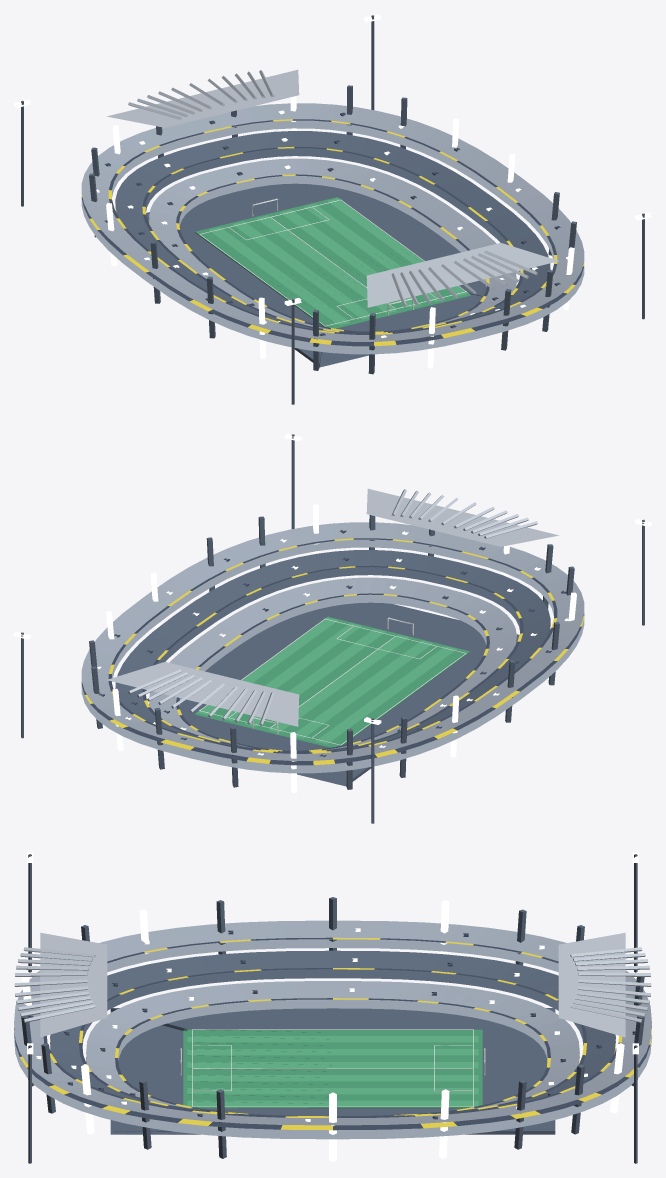
File: king-abdullah-sports-city.glb
3 renders of one model, top to bottom at view 1: azimuth 30°, elevation 25°; view 2: azimuth 150°, elevation 25°; view 3: azimuth 270°, elevation 25°, orthographic. The views are drawn at different scales.
Visible parts, largest first — view 1: King Abdullah Sports City; view 2: King Abdullah Sports City; view 3: King Abdullah Sports City.
Part boxes in pixels (bbox=[...]): King Abdullah Sports City: bbox=[14, 14, 651, 404]; King Abdullah Sports City: bbox=[14, 433, 651, 823]; King Abdullah Sports City: bbox=[14, 852, 651, 1163].
Size of the model in its own units: 63.2 by 17.65 by 83.2.
